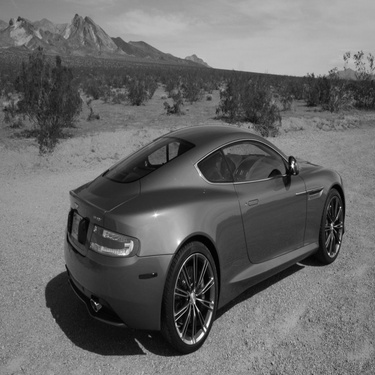car: (47, 112, 353, 348)
